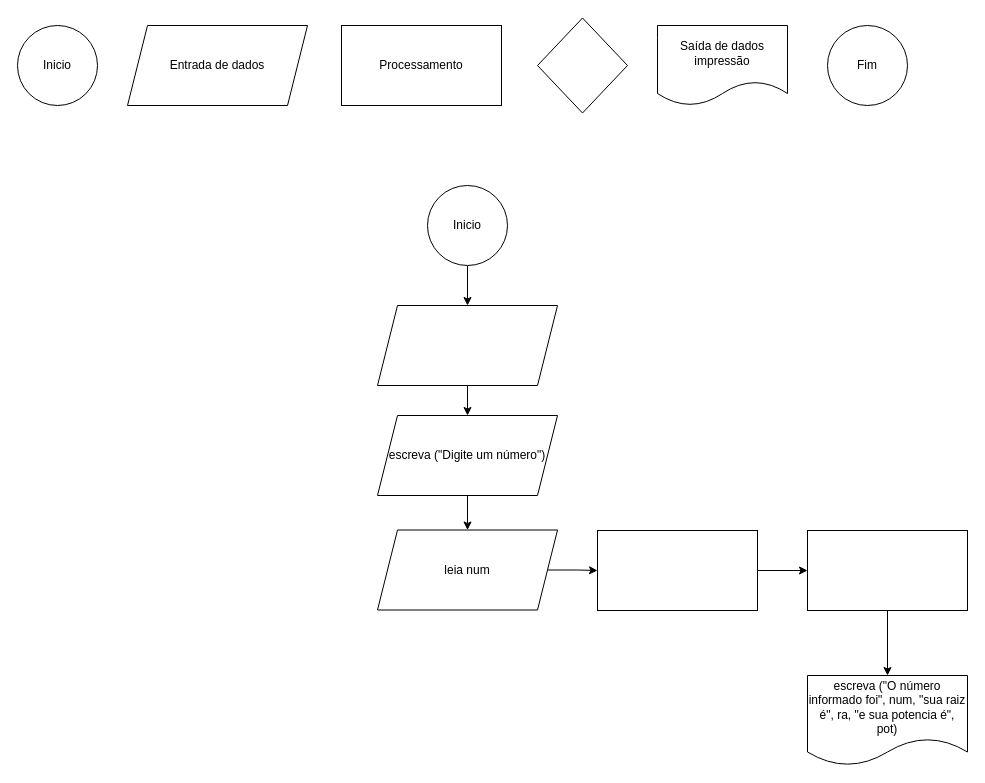
This 985x783 diagram has some shape labels left out. Here are the shapes that lost their labels. From the top down, the centre of each, then its label:
At pixel 582 65: "Decisões Validar".
At pixel 467 345: "inteiro num inteiro pot inteiro ra".
At pixel 677 570: "pot = num*num".
At pixel 887 570: "ra = raiz(num)".
